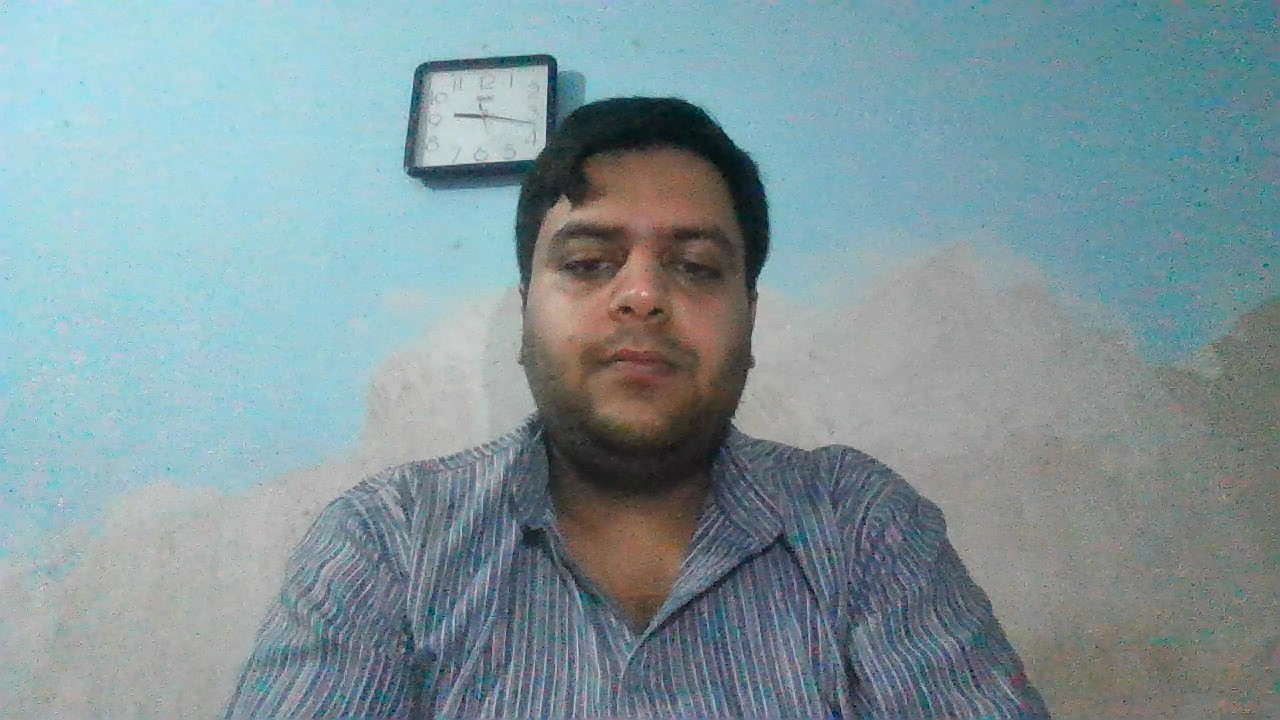No Mask: (510, 281, 763, 463)
